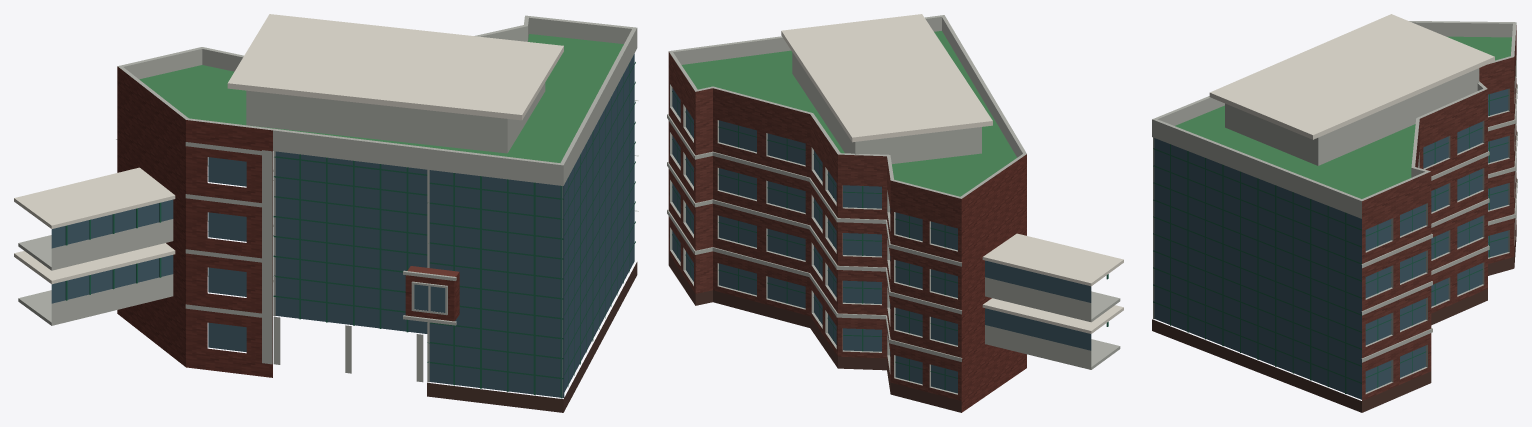
3 views of the same model, side by side, from view 1: azimuth 30°, elevation 25°; view 2: azimuth 150°, elevation 25°; view 3: azimuth 270°, elevation 25° (orthographic). The views are drawn at different scales.
Visible parts, largest first — view 1: inwon__glass, inwon__trim-concrete, inwon__canopy-concrete, inwon__brick, inwon__frame, inwon__roof, inwon__base-stone; view 2: inwon__wall-plaster, inwon__trim-concrete, inwon__canopy-concrete, inwon__glass, inwon__brick, inwon__roof, inwon__base-stone, inwon__frame; view 3: inwon__glass, inwon__trim-concrete, inwon__wall-plaster, inwon__canopy-concrete, inwon__frame, inwon__roof, inwon__base-stone.
Part boxes in pixels (x1,y1,x2,y2): inwon__glass: (51,53,634,398); inwon__trim-concrete: (18,15,638,398); inwon__canopy-concrete: (14,14,563,284); inwon__brick: (117,66,459,377); inwon__frame: (65,62,635,398); inwon__roof: (139,34,623,162); inwon__base-stone: (427,262,637,412); inwon__wall-plaster: (668,52,961,400); inwon__trim-concrete: (667,15,1120,394); inwon__canopy-concrete: (781,14,1123,333); inwon__glass: (672,88,1091,393); inwon__brick: (961,154,1026,412); inwon__roof: (681,31,1016,196); inwon__base-stone: (668,254,961,412); inwon__frame: (672,91,1108,390); inwon__glass: (1154,89,1508,399); inwon__trim-concrete: (1152,21,1517,393); inwon__wall-plaster: (1362,25,1516,400); inwon__canopy-concrete: (1209,14,1494,139); inwon__frame: (1153,94,1508,393); inwon__roof: (1175,36,1511,198); inwon__base-stone: (1152,225,1516,412).
Size of the model in its own units: 38.08 by 17.95 by 25.29.
9 materials, 2 textured.
